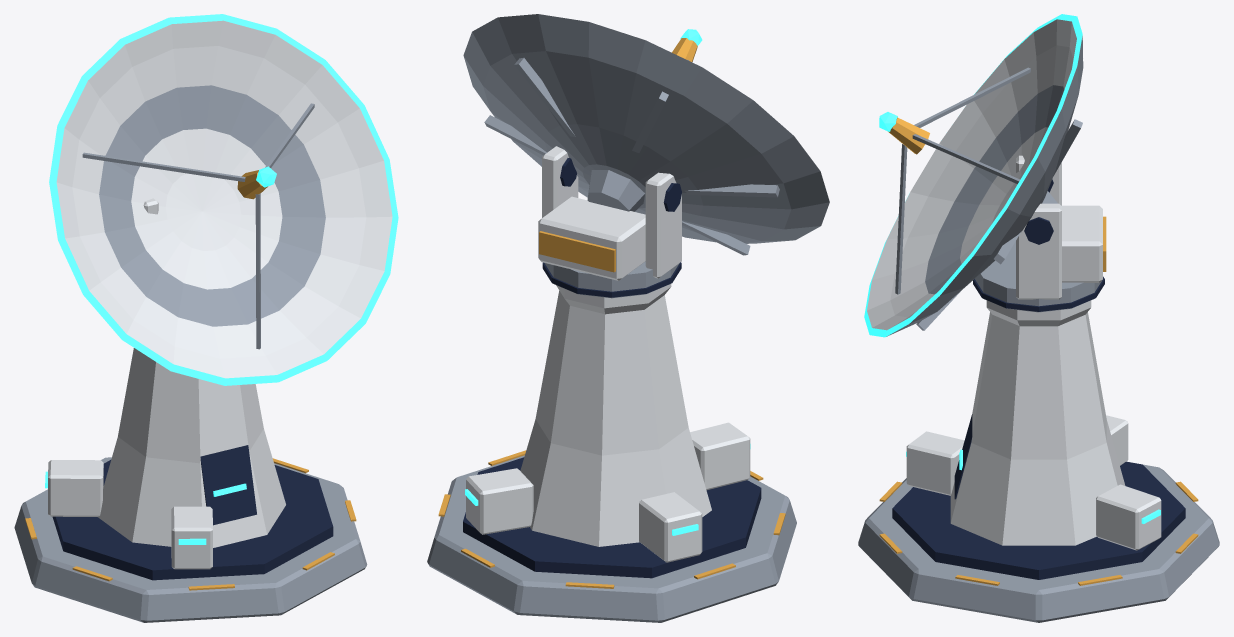
Rendered from satellite_dish.glb.
3 renders of one model, left to right at view 1: azimuth 30°, elevation 25°; view 2: azimuth 150°, elevation 25°; view 3: azimuth 270°, elevation 25°, orthographic. The views are drawn at different scales.
Parts seen in each view (by area): view 1: spin_dish, base; view 2: base, spin_dish; view 3: base, spin_dish.
Part boxes in pixels (left/top/right/bottom): spin_dish: left=49, top=14, right=398, bottom=385; base: left=14, top=348, right=367, bottom=622; base: left=427, top=284, right=796, bottom=622; spin_dish: left=463, top=14, right=829, bottom=298; base: left=858, top=300, right=1219, bottom=622; spin_dish: left=864, top=14, right=1106, bottom=337.
Bounding box in the file's own units: 4.16 × 6.18 × 3.95.
